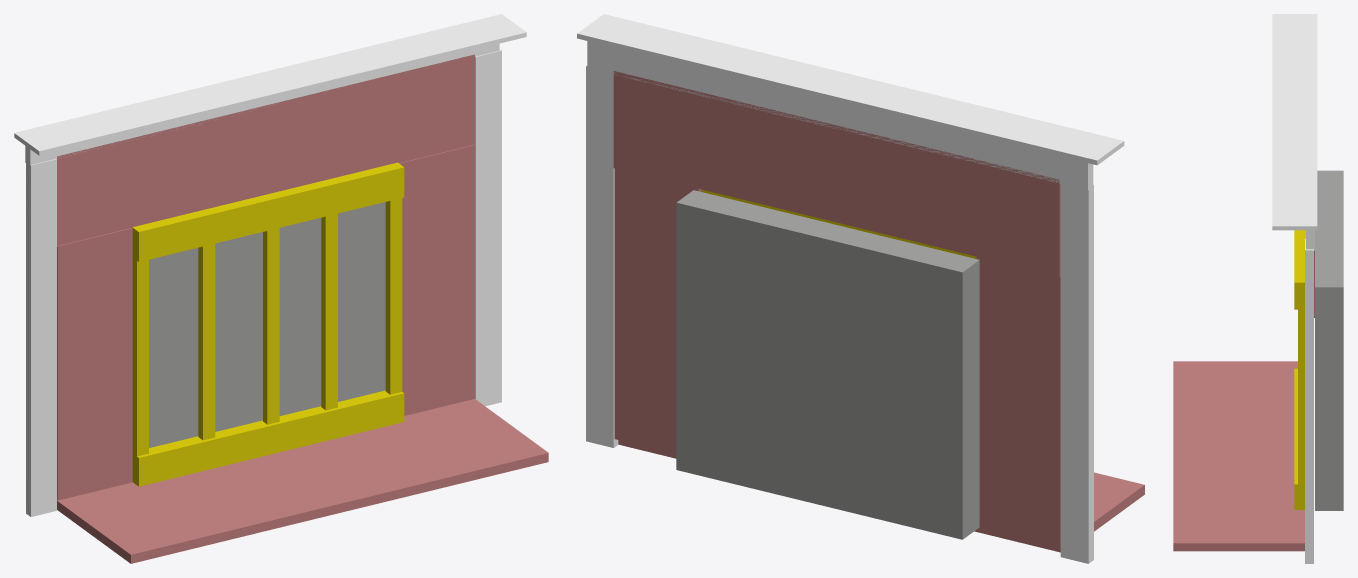
File: sweethome3d-contributions-fireplace-175.glb
3 views of the same model, side by side, from view 1: azimuth 30°, elevation 25°; view 2: azimuth 150°, elevation 25°; view 3: azimuth 270°, elevation 25° (orthographic). The views are drawn at different scales.
Visible parts, largest first — view 1: top_section, gray, hearth, left_sdie, right_side, mantle, left_white_trim, top_brass, bottom_brass, right_white_trim, right_brass, left_quarter_brass (+4 smaller); view 2: gray, top_section, left_sdie, right_side, mantle, top_white_trim, left_white_trim, right_white_trim, hearth, top_brass; view 3: hearth, mantle, gray, right_white_trim, right_brass, top_brass, bottom_brass.
Boxes of the visible parts, box(x1,y1,x2,y2) form: top_section: box(57, 54, 474, 245); gray: box(149, 202, 385, 447); hearth: box(57, 399, 548, 563); left_sdie: box(57, 228, 132, 500); right_side: box(399, 144, 474, 415); mantle: box(14, 14, 526, 155); left_white_trim: box(26, 159, 56, 516); top_brass: box(132, 162, 404, 261); bottom_brass: box(132, 390, 404, 486); right_white_trim: box(475, 49, 501, 406); right_brass: box(385, 198, 402, 394); left_quarter_brass: box(198, 243, 215, 440); gray: box(676, 190, 979, 539); top_section: box(613, 71, 1060, 276); left_sdie: box(976, 257, 1060, 547); right_side: box(614, 168, 701, 453); mantle: box(577, 14, 1124, 165); top_white_trim: box(587, 41, 1093, 190); left_white_trim: box(1060, 184, 1093, 563); right_white_trim: box(586, 65, 618, 447); hearth: box(618, 440, 1144, 552); top_brass: box(702, 189, 976, 258); hearth: box(1173, 361, 1304, 551); mantle: box(1272, 14, 1317, 230); gray: box(1315, 170, 1343, 510); right_white_trim: box(1305, 239, 1313, 563); right_brass: box(1298, 309, 1304, 484); top_brass: box(1294, 230, 1305, 309); bottom_brass: box(1294, 368, 1304, 509).
Size of the model in its own units: 5.6 by 4.19 by 1.9.
